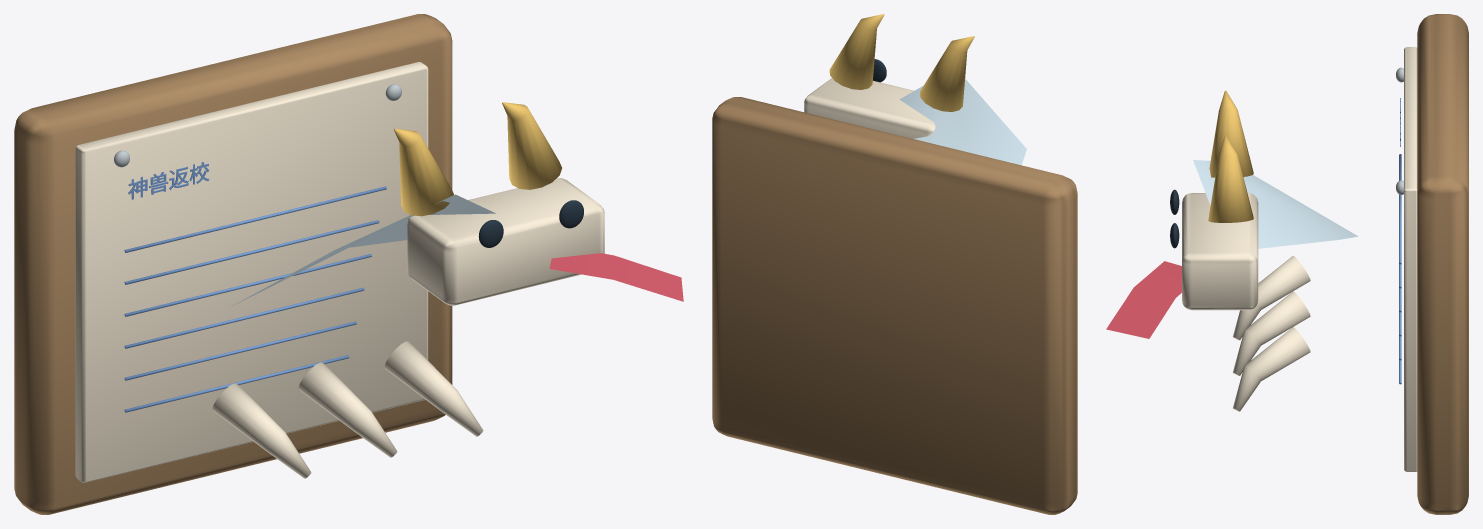
File: Q02_Origami_Beast_From_School_Notice.glb
The picture shows the model from 3 angles, left to right: view 1: azimuth 30°, elevation 25°; view 2: azimuth 150°, elevation 25°; view 3: azimuth 270°, elevation 25°; orthographic projection. The views are drawn at different scales.
Parts seen in each view (by area): view 1: Q02 actual ivory printed enrollment notice, Q02 actual walnut school notice bulletin display, Q02 three-dimensional origami beast angular snout, Q02_PAPER_LEGS_ACTOR | School notice cream folded craft pape, Q02_NOTICE_ACTOR | School notice cobalt deep blue ink, Q02_BEAST_HEAD_ACTOR | Ancient paper-dragon golden horn, Q02 bright red paper origami tongue and roar, Q02 unique folded 3D origami guardian beast hood, Q02_BEAST_HEAD_ACTOR | Origami dragon printed eyes; view 2: Q02 actual walnut school notice bulletin display, Q02_BEAST_HEAD_ACTOR | Ancient paper-dragon golden horn, Q02 three-dimensional origami beast angular snout, Q02 unique folded 3D origami guardian beast hood; view 3: Q02 actual walnut school notice bulletin display, Q02 three-dimensional origami beast angular snout, Q02_PAPER_LEGS_ACTOR | School notice cream folded craft pape, Q02 actual ivory printed enrollment notice, Q02 unique folded 3D origami guardian beast hood, Q02_BEAST_HEAD_ACTOR | Ancient paper-dragon golden horn, Q02 bright red paper origami tongue and roar, Q02_NOTICE_ACTOR | School notice cobalt deep blue ink.
Boxes of the visible parts, x1=… form: Q02 actual ivory printed enrollment notice: x1=75, y1=62, x2=428, y2=482; Q02 actual walnut school notice bulletin display: x1=14, y1=14, x2=452, y2=514; Q02 three-dimensional origami beast angular snout: x1=407, y1=178, x2=604, y2=305; Q02_PAPER_LEGS_ACTOR | School notice cream folded craft pape: x1=212, y1=341, x2=483, y2=478; Q02_NOTICE_ACTOR | School notice cobalt deep blue ink: x1=124, y1=162, x2=386, y2=412; Q02_BEAST_HEAD_ACTOR | Ancient paper-dragon golden horn: x1=394, y1=102, x2=561, y2=216; Q02 bright red paper origami tongue and roar: x1=549, y1=253, x2=683, y2=301; Q02 unique folded 3D origami guardian beast hood: x1=232, y1=194, x2=495, y2=305; Q02_BEAST_HEAD_ACTOR | Origami dragon printed eyes: x1=478, y1=200, x2=583, y2=247; Q02 actual walnut school notice bulletin display: x1=712, y1=97, x2=1077, y2=514; Q02_BEAST_HEAD_ACTOR | Ancient paper-dragon golden horn: x1=829, y1=14, x2=974, y2=111; Q02 three-dimensional origami beast angular snout: x1=804, y1=78, x2=935, y2=138; Q02 unique folded 3D origami guardian beast hood: x1=899, y1=78, x2=1026, y2=165; Q02 actual walnut school notice bulletin display: x1=1417, y1=14, x2=1468, y2=514; Q02 three-dimensional origami beast angular snout: x1=1182, y1=193, x2=1258, y2=310; Q02_PAPER_LEGS_ACTOR | School notice cream folded craft pape: x1=1233, y1=256, x2=1310, y2=411; Q02 actual ivory printed enrollment notice: x1=1404, y1=47, x2=1417, y2=471; Q02 unique folded 3D origami guardian beast hood: x1=1193, y1=160, x2=1358, y2=248; Q02_BEAST_HEAD_ACTOR | Ancient paper-dragon golden horn: x1=1208, y1=90, x2=1253, y2=222; Q02 bright red paper origami tongue and roar: x1=1106, y1=261, x2=1182, y2=338; Q02_NOTICE_ACTOR | School notice cobalt deep blue ink: x1=1399, y1=98, x2=1401, y2=384.
Size of the model in its own units: 1.76 by 1.45 by 1.33.
